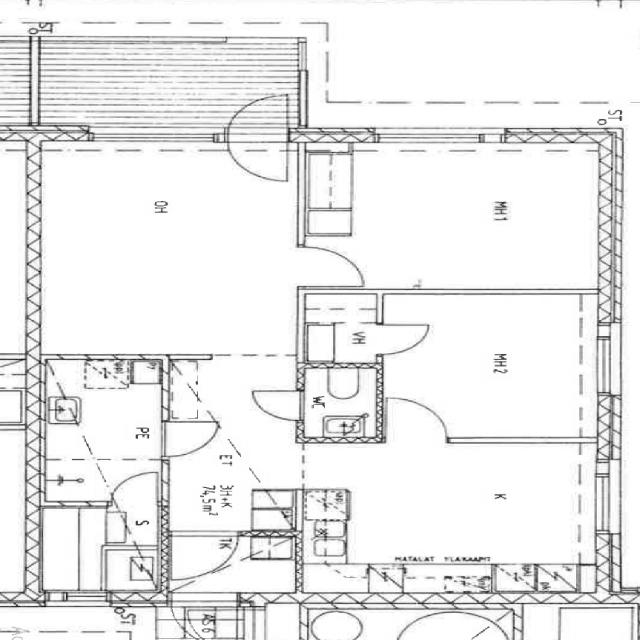door: (228, 125, 287, 180), (228, 86, 287, 140), (172, 532, 238, 580), (297, 246, 367, 288), (386, 399, 446, 443), (162, 422, 222, 456), (251, 391, 305, 421), (111, 473, 157, 507), (376, 325, 427, 355)
